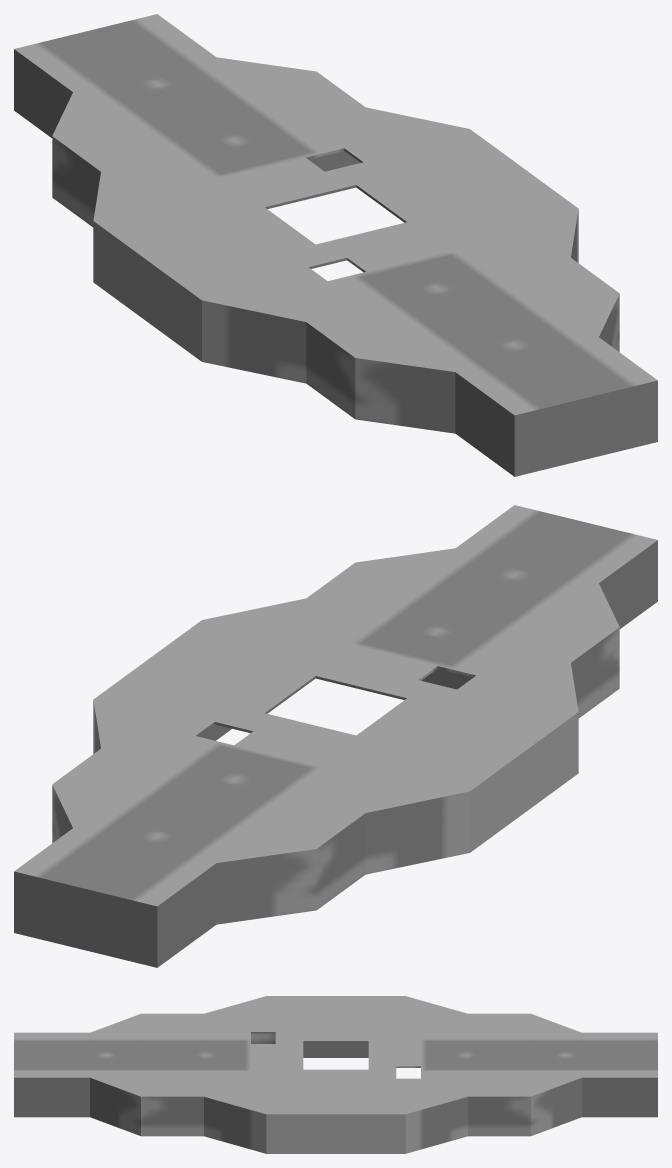
File: prop_Floor2_EM_B.fbx
3 views of the same model, one above another, from view 1: azimuth 30°, elevation 25°; view 2: azimuth 150°, elevation 25°; view 3: azimuth 270°, elevation 25° (orthographic). The views are drawn at different scales.
Visible parts, largest first — view 1: prop_Floor2_EM_B; view 2: prop_Floor2_EM_B; view 3: prop_Floor2_EM_B.
Boxes of the visible parts, x1,y1,x2,y2 form: prop_Floor2_EM_B: (14, 14, 657, 476); prop_Floor2_EM_B: (14, 505, 657, 967); prop_Floor2_EM_B: (14, 996, 657, 1153).
Bounding box in the file's own units: 3834 × 598 × 8827.
